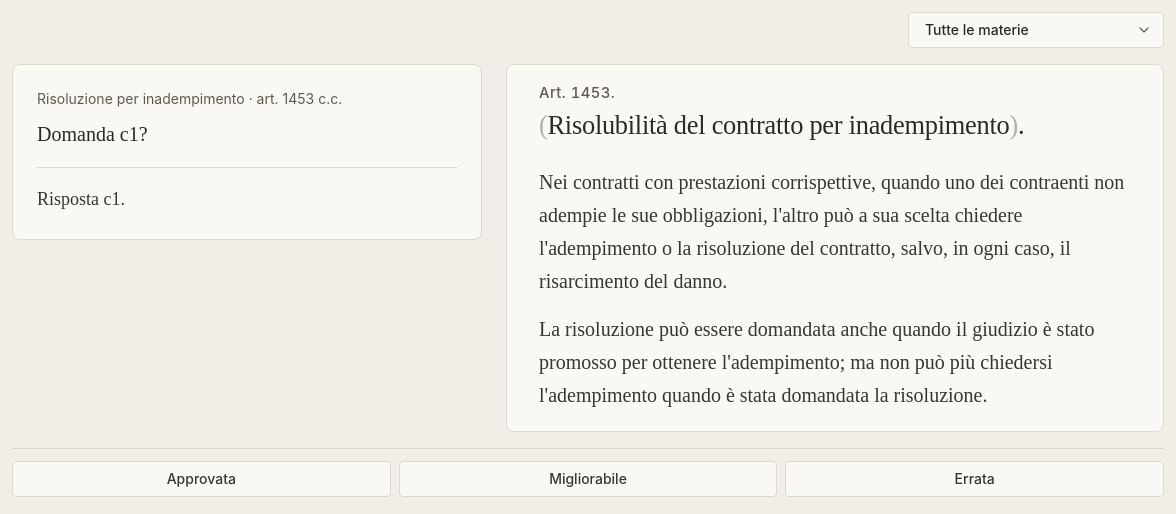
Test case: «Da validare», voting › stops when a vote is refused because the user is no longer a validator
Check: the text "Domanda c1?" is shown, box [37,123,148,145]
Click the button "Approvata" at (201, 479), box [12,461,391,497]
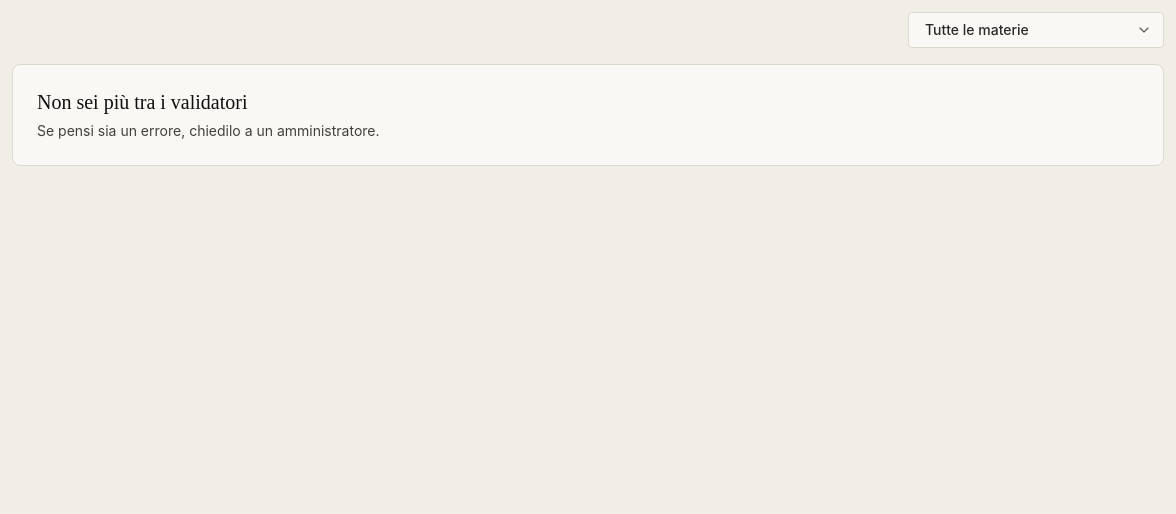
Check: the text "Non sei più tra i validatori" is shown, box [37,91,248,113]
Check: the button "Approvata" is gone
Check: the text "Domanda c2?" is gone
